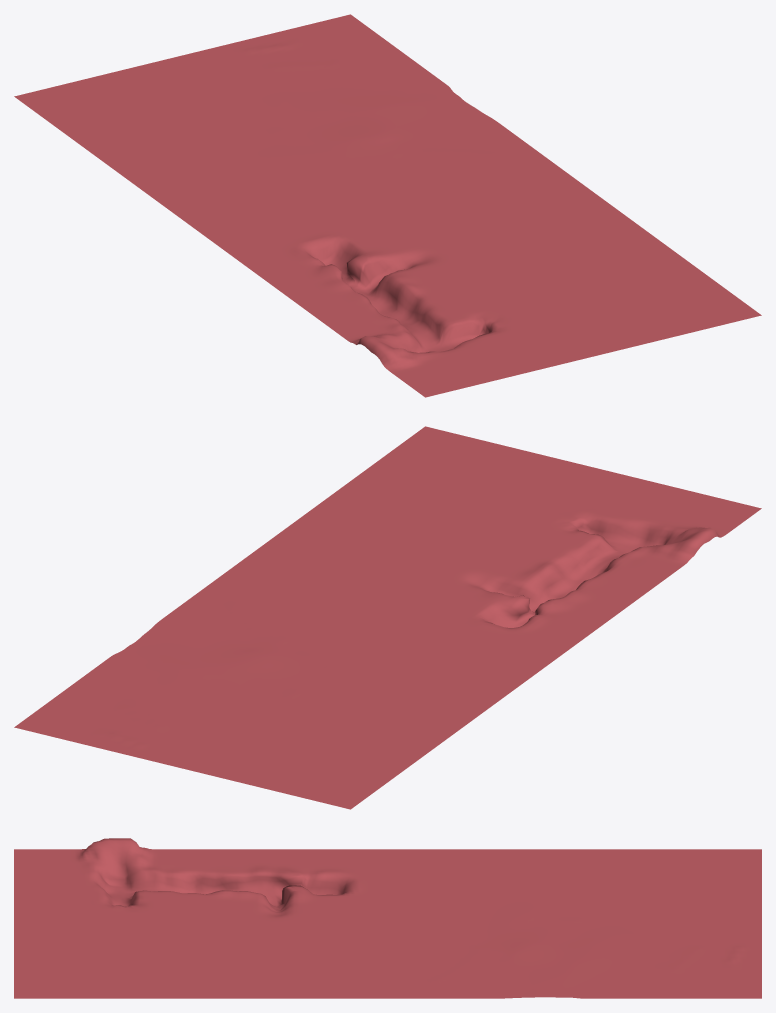
Rendered from Desert world blockout.fbx.
3 views of the same model, one above another, from view 1: azimuth 30°, elevation 25°; view 2: azimuth 150°, elevation 25°; view 3: azimuth 270°, elevation 25° (orthographic). The views are drawn at different scales.
Visible parts, largest first — view 1: desert_map_rough:world; view 2: desert_map_rough:world; view 3: desert_map_rough:world.
Part boxes in pixels (x1,y1,x2,y2): desert_map_rough:world: (14,14,761,397); desert_map_rough:world: (14,426,761,809); desert_map_rough:world: (14,838,761,998).
Size of the model in its own units: 5773 by 561 by 12168.
